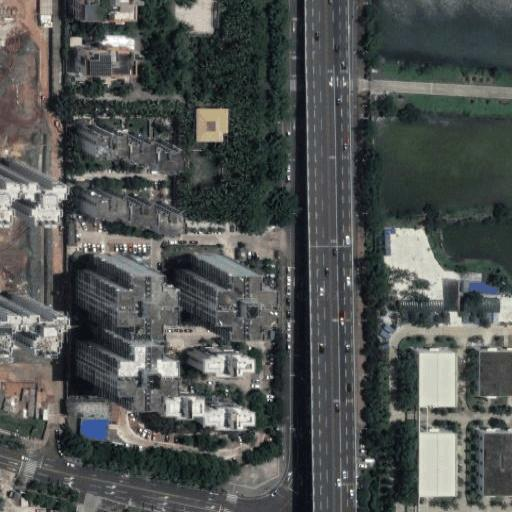building: (77, 257, 140, 322), (76, 326, 135, 395), (177, 254, 236, 319), (413, 430, 458, 499), (413, 348, 460, 411), (478, 432, 512, 496), (472, 350, 512, 398), (78, 47, 136, 72), (199, 402, 250, 426), (188, 348, 241, 371), (70, 0, 135, 17), (196, 108, 227, 140), (162, 392, 199, 415), (70, 36, 134, 49), (76, 126, 108, 149), (78, 189, 112, 209), (135, 143, 165, 165), (459, 279, 500, 295), (140, 204, 169, 226), (111, 196, 140, 217), (73, 412, 99, 435), (108, 135, 135, 156), (460, 298, 500, 312), (460, 310, 500, 324), (67, 397, 100, 413), (39, 0, 53, 14), (39, 14, 52, 26)
